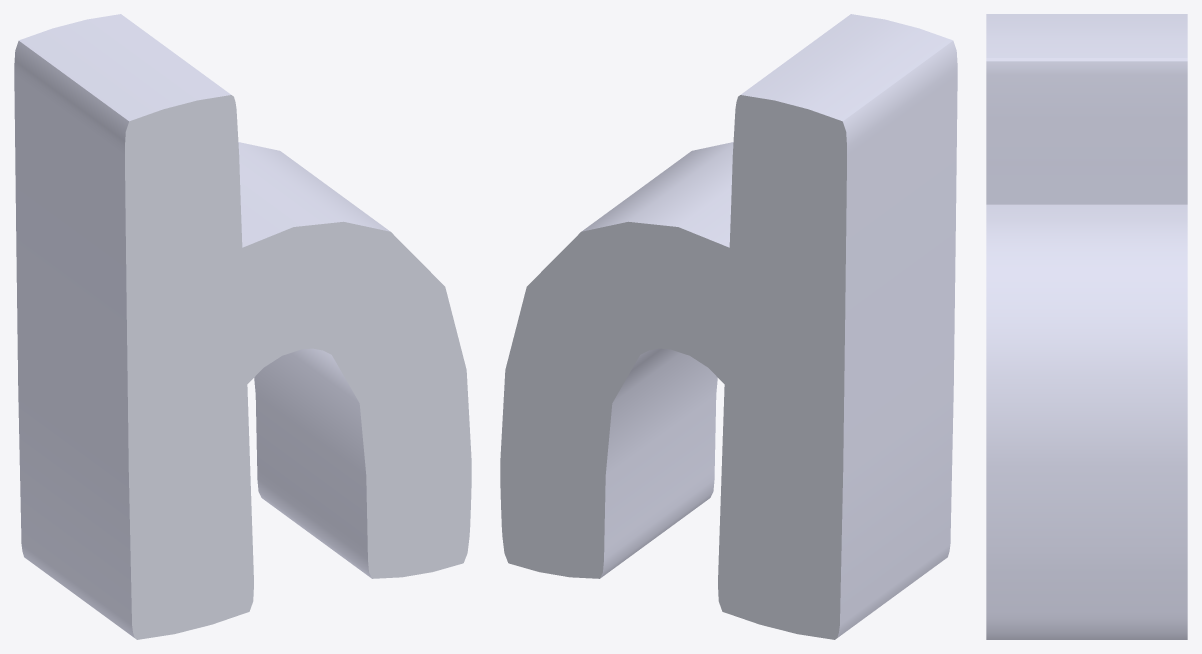
Rendered from H_Zyzol_Grey.glb.
3 renders of one model, left to right at view 1: azimuth 30°, elevation 25°; view 2: azimuth 150°, elevation 25°; view 3: azimuth 270°, elevation 25°, orthographic. The views are drawn at different scales.
Visible parts, largest first — view 1: h_Zyzol_Grey; view 2: h_Zyzol_Grey; view 3: h_Zyzol_Grey.
Part boxes in pixels (x1,y1,x2,y2): h_Zyzol_Grey: (14, 14, 471, 639); h_Zyzol_Grey: (500, 14, 957, 639); h_Zyzol_Grey: (986, 14, 1187, 639).
Size of what is drawn, in the model's own units: 0.0815 by 0.1188 by 0.045.
2 materials, 2 textured.
